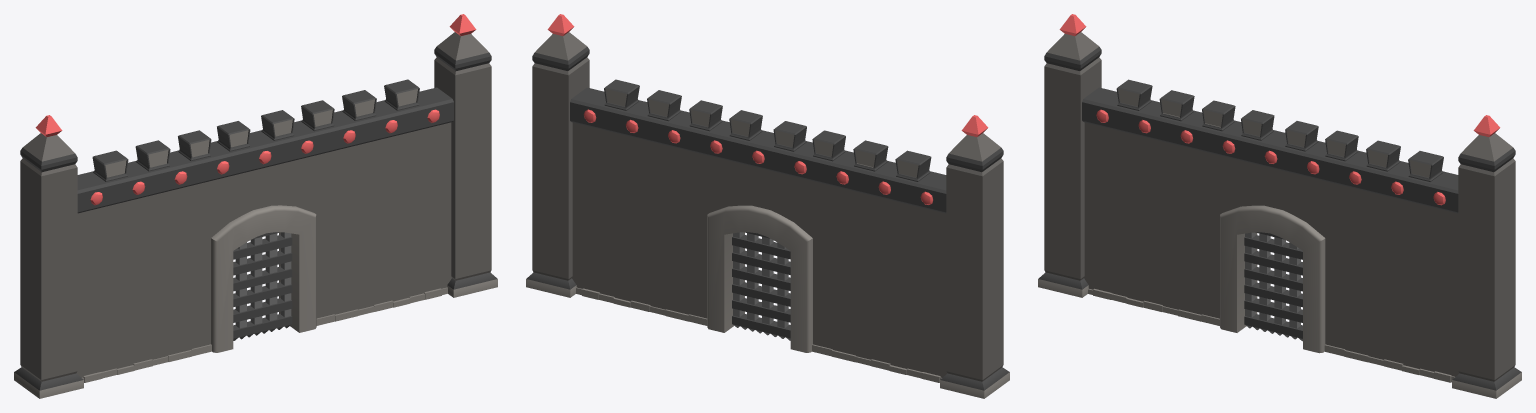
Rendered from GateFinalModelGroup.fbx.
3 renders of one model, left to right at view 1: azimuth 30°, elevation 25°; view 2: azimuth 150°, elevation 25°; view 3: azimuth 330°, elevation 25°, orthographic.
Parts seen in each view (by area): view 1: GateWall, Pillar1, Pillar2, TopSupportBeam, GateDoor; view 2: GateWall, Pillar1, Pillar2, TopSupportBeam, GateDoor; view 3: GateWall, Pillar2, Pillar1, TopSupportBeam, GateDoor.
Boxes of the visible parts, x1,y1,x2,y2 form: GateWall: (76,79,451,377); Pillar1: (14,115,83,398); Pillar2: (434,14,497,297); TopSupportBeam: (77,87,453,213); GateDoor: (233,232,292,340); GateWall: (572,79,947,377); Pillar1: (940,115,1009,398); Pillar2: (526,14,589,297); TopSupportBeam: (570,87,946,213); GateDoor: (732,232,790,340); GateWall: (1084,79,1459,376); Pillar2: (1452,115,1521,398); Pillar1: (1038,14,1101,297); TopSupportBeam: (1082,87,1458,213); GateDoor: (1244,232,1302,341).
Bounding box in the file's own units: 2176 × 1223 × 210.
